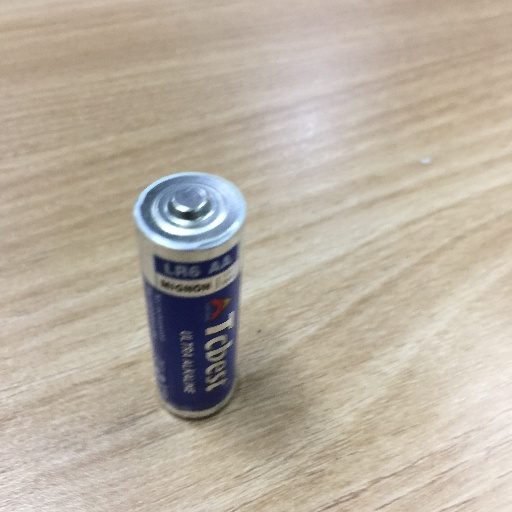Battery_0: (129, 154, 266, 431)
